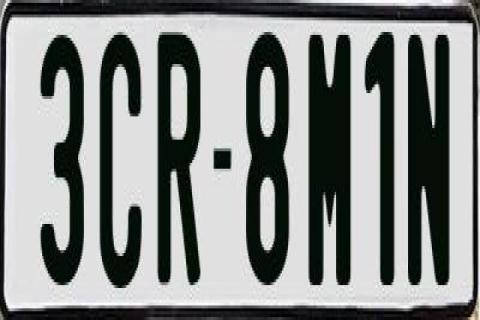0: (38, 32, 84, 300), (243, 23, 287, 291), (364, 26, 394, 288)
C: (98, 32, 146, 300)
M: (304, 26, 352, 282)
N: (408, 32, 450, 300)
R: (154, 32, 198, 300)
